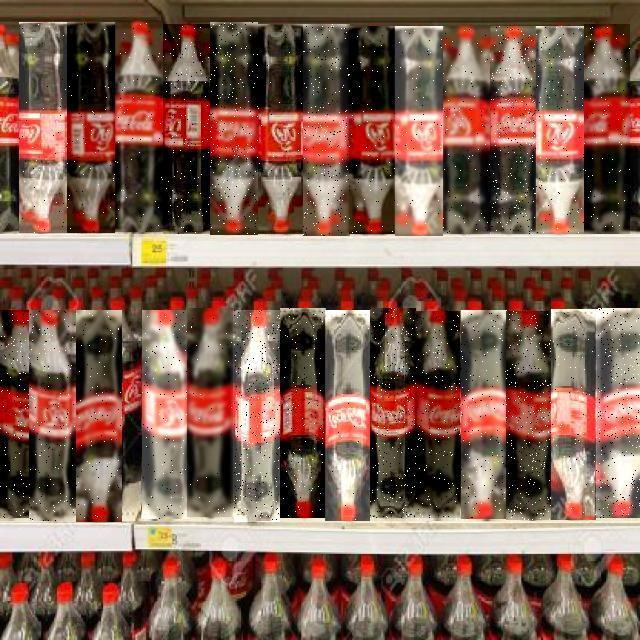Drinks: (114, 20, 163, 232), (211, 22, 259, 235), (304, 24, 352, 236), (552, 309, 600, 520), (67, 22, 115, 233), (19, 22, 67, 233), (163, 24, 211, 234), (395, 26, 443, 236), (142, 310, 190, 519), (188, 308, 236, 517), (442, 26, 490, 234), (536, 26, 584, 234), (76, 310, 122, 522), (235, 310, 281, 522), (30, 310, 76, 521), (259, 24, 305, 234), (584, 24, 630, 234), (280, 308, 326, 518), (370, 308, 416, 518), (461, 310, 507, 519), (506, 311, 552, 520), (350, 26, 396, 234), (491, 26, 537, 234), (325, 310, 370, 521), (415, 312, 460, 520), (598, 308, 640, 518), (0, 310, 29, 518)
